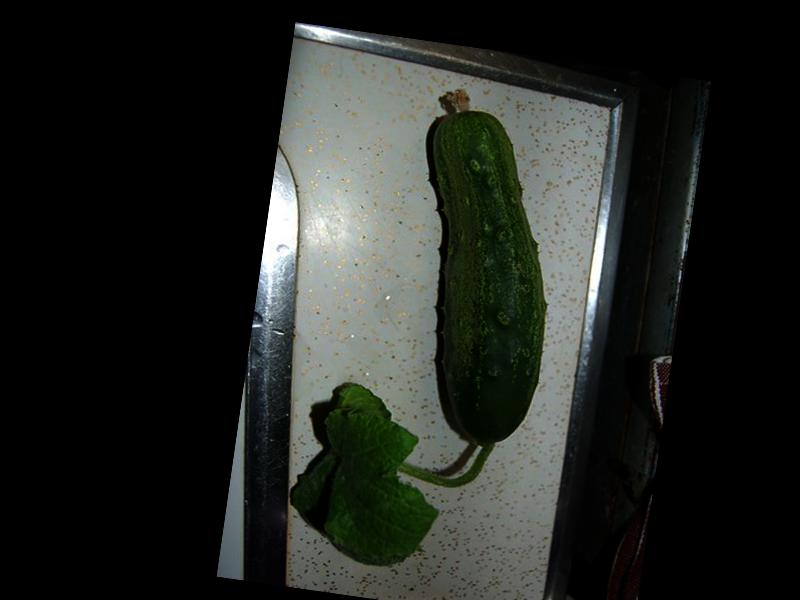Cucumber: (388, 85, 578, 453)
